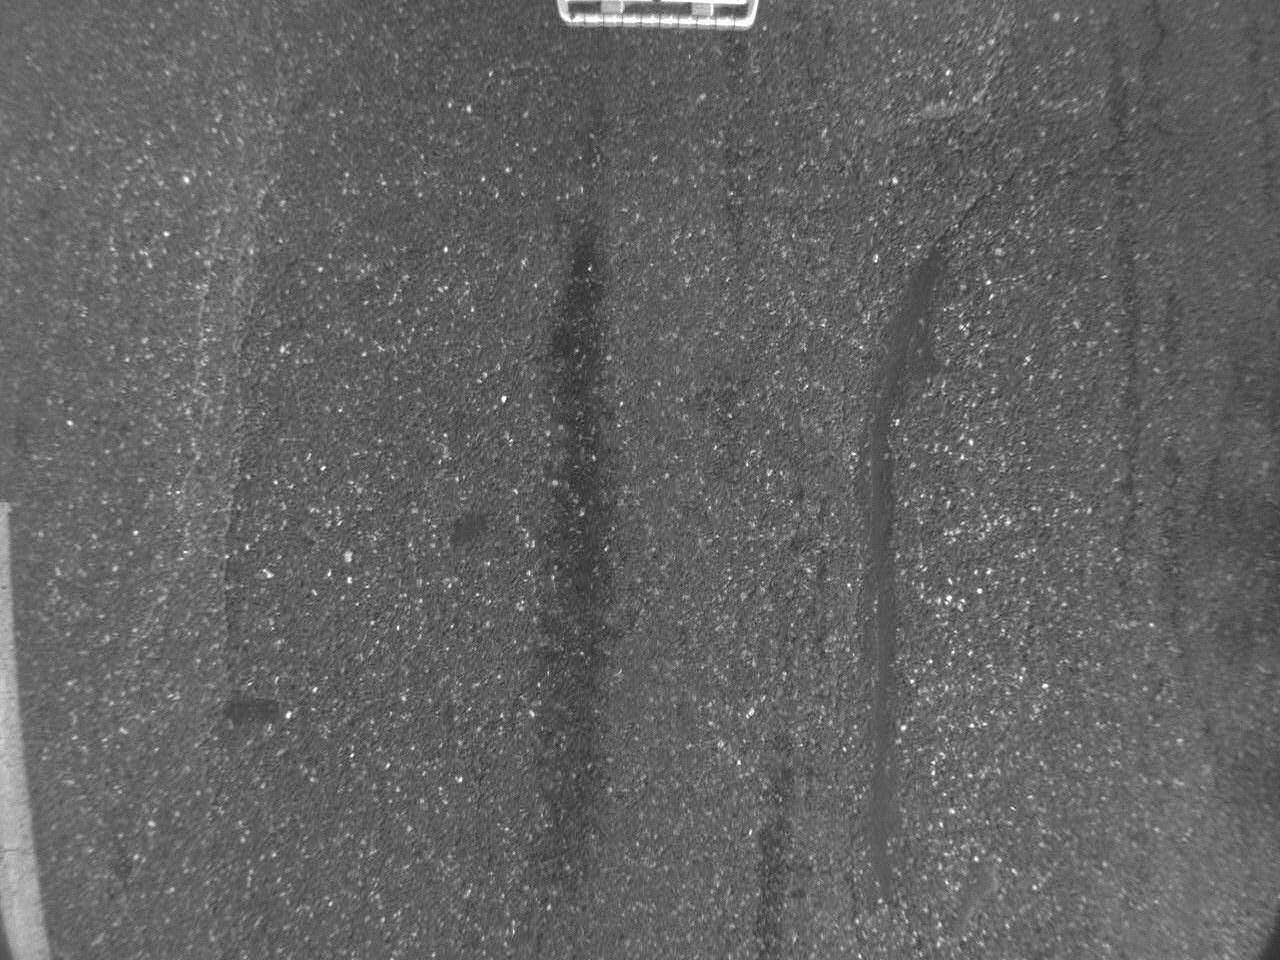sealed: (856, 236, 964, 908)
